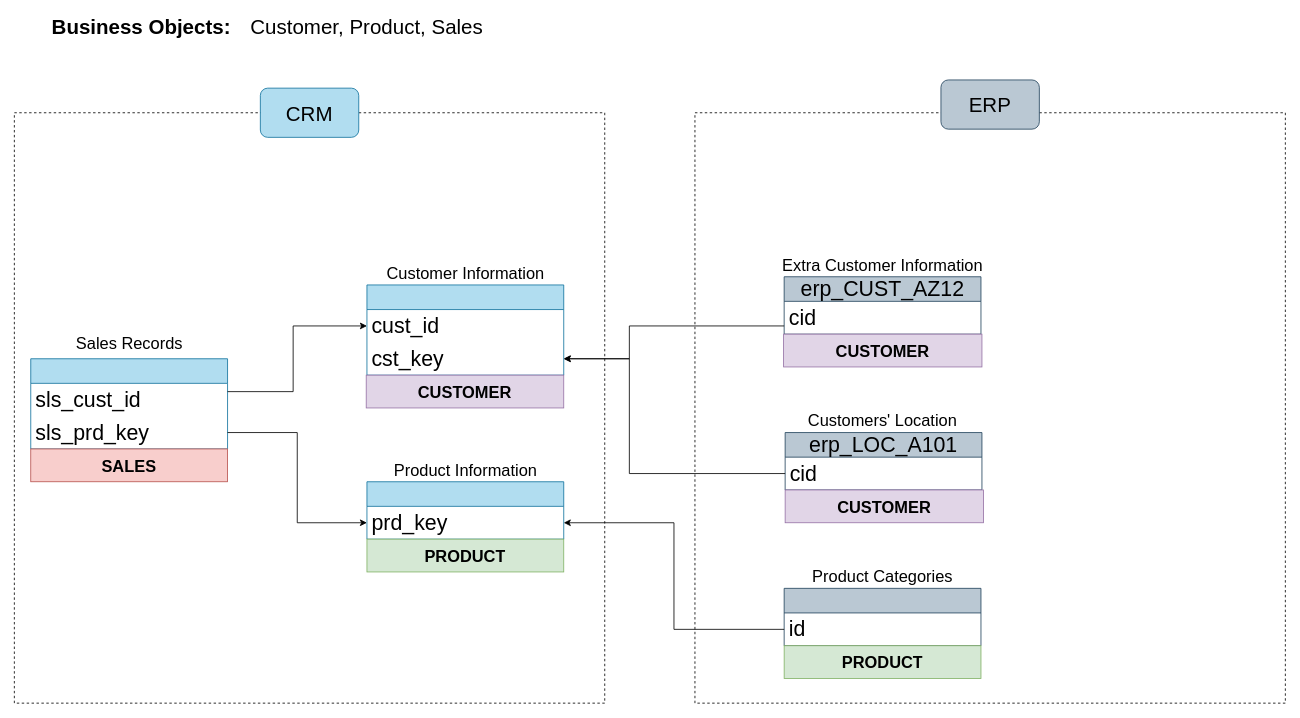
Image size: 1300x718. Some labels were removed from this diagram. The shapes that lost their labels are listed below. From the top down, each one's box as (x1, y1, x2, y2) in pixels, then its label:
(366, 284, 564, 375): crm_cust_info
(30, 358, 228, 449): crm_sales_details
(366, 481, 564, 539): crm_prd_info
(783, 588, 981, 646): erp_ PX_CAT_G1V2
